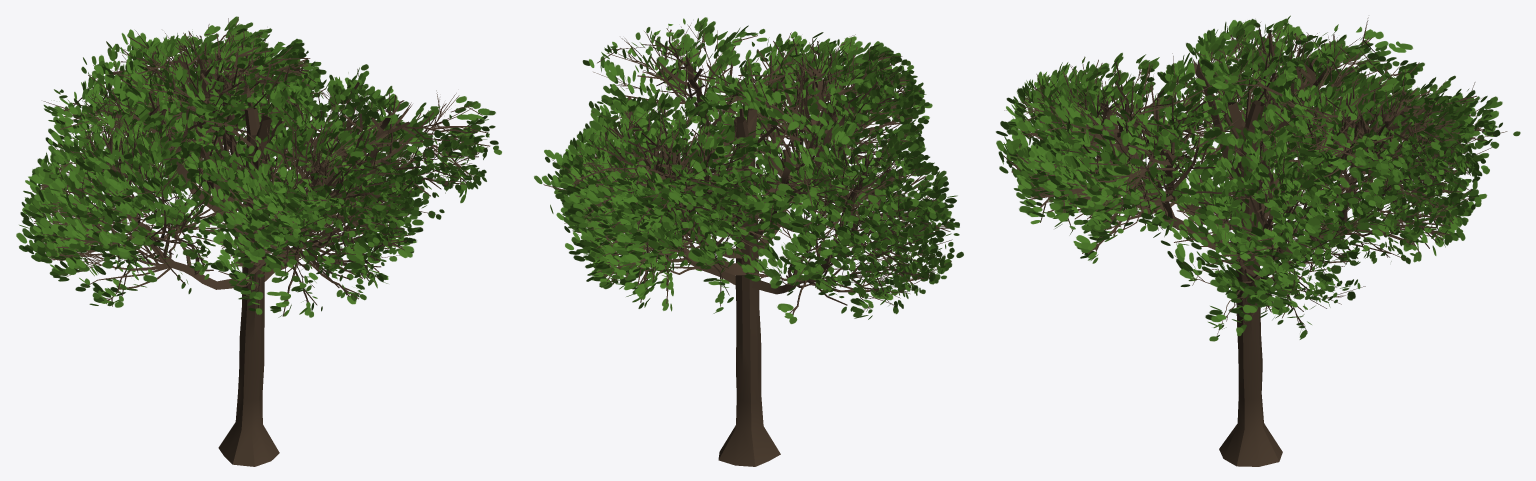
The picture shows the model from 3 angles, left to right: view 1: azimuth 30°, elevation 25°; view 2: azimuth 150°, elevation 25°; view 3: azimuth 270°, elevation 25°; orthographic projection. The views are drawn at different scales.
Visible parts, largest first — view 1: oak 01.001_trunk_Mat.001_0.075; view 2: oak 01.001_trunk_Mat.001_0.075; view 3: oak 01.001_trunk_Mat.001_0.075.
Boxes of the visible parts, x1,y1,x2,y2 form: oak 01.001_trunk_Mat.001_0.075: [16, 16, 501, 466]; oak 01.001_trunk_Mat.001_0.075: [534, 17, 963, 466]; oak 01.001_trunk_Mat.001_0.075: [996, 15, 1520, 466].
Bounding box in the file's own units: 6.5 × 5.29 × 6.74.
Materials: 2 (1 with a texture image).
